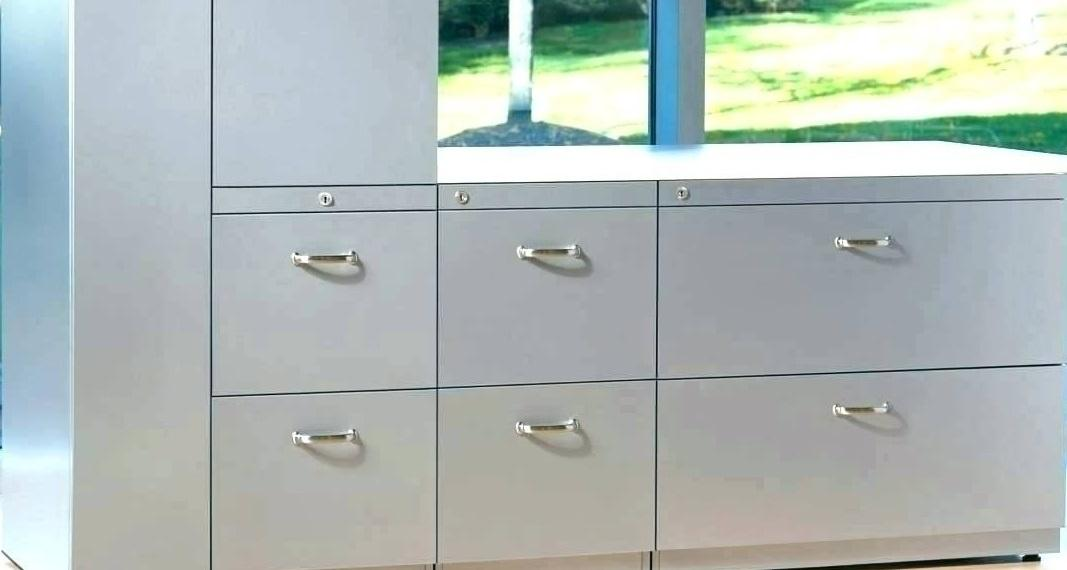cabinet_door: (666, 204, 1067, 371), (667, 370, 1067, 537), (209, 0, 432, 188), (209, 220, 432, 398), (207, 396, 431, 570), (435, 387, 652, 561), (435, 217, 653, 388), (660, 176, 1067, 202), (217, 184, 442, 212), (443, 182, 661, 210)
handle: (285, 424, 366, 451), (511, 240, 587, 268), (828, 231, 906, 258), (288, 246, 363, 273), (508, 414, 587, 439), (830, 398, 904, 422)
